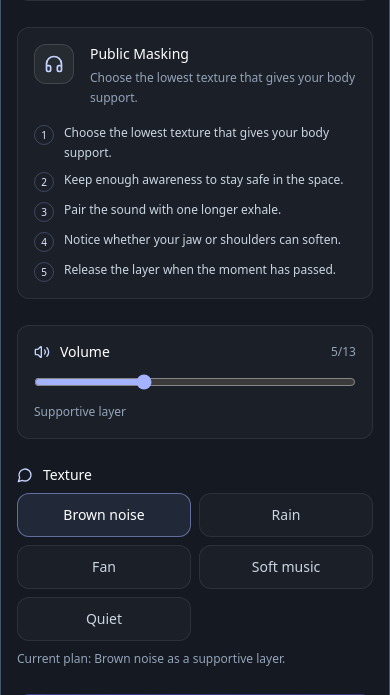
Test: SoundSupportPanel › updates texture and volume safety guidance
The width and height of the screenshot is (390, 695).
(page scrolled)
Click the button "Quiet" at {"x": 104, "y": 618}, box [17,596,191,640]
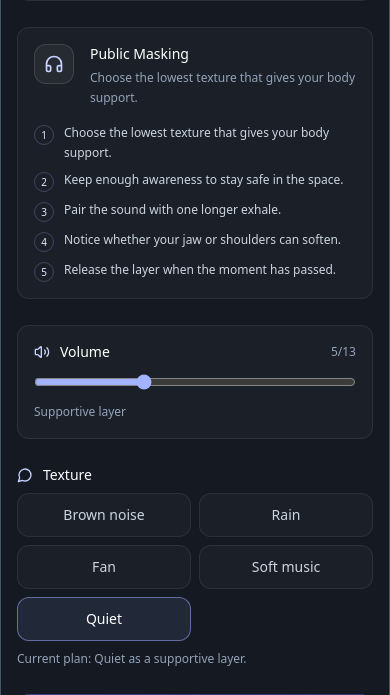
Set the slider named "Support volume" to "11" at {"x": 297, "y": 382}, box [34,374,356,390]
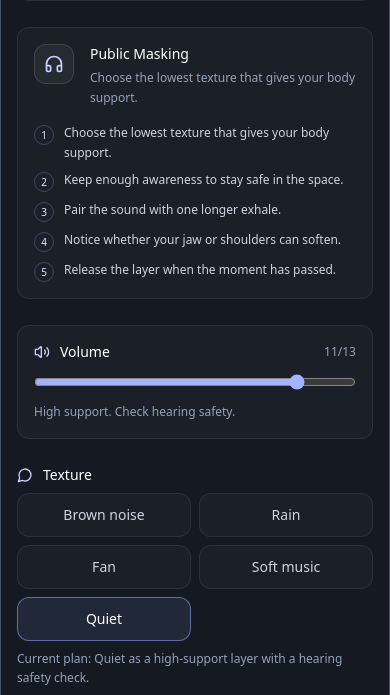
Check: the text "11/13" is shown, box [324,344,356,360]
Check: the text "High support. Check hearing safety." is shown, box [34,403,235,420]
Check: the text "Current plan: Quiet as a high-support layer with a hearing safety check." is shown, box [17,648,373,688]
